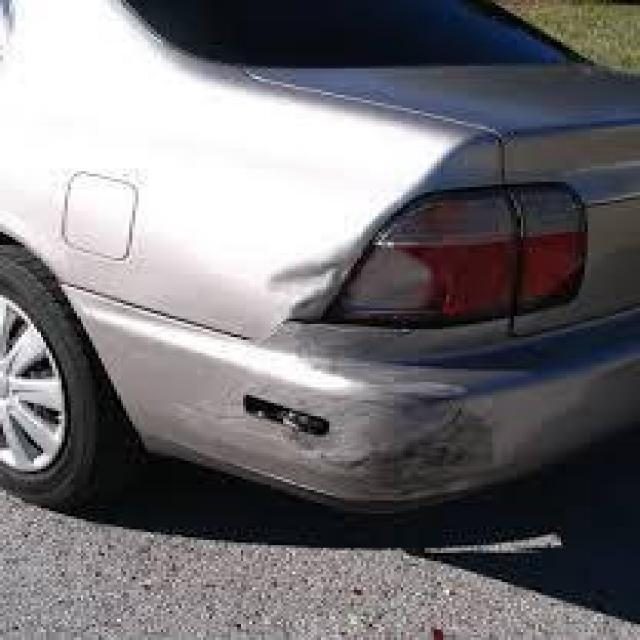damaged: (190, 237, 462, 500)
